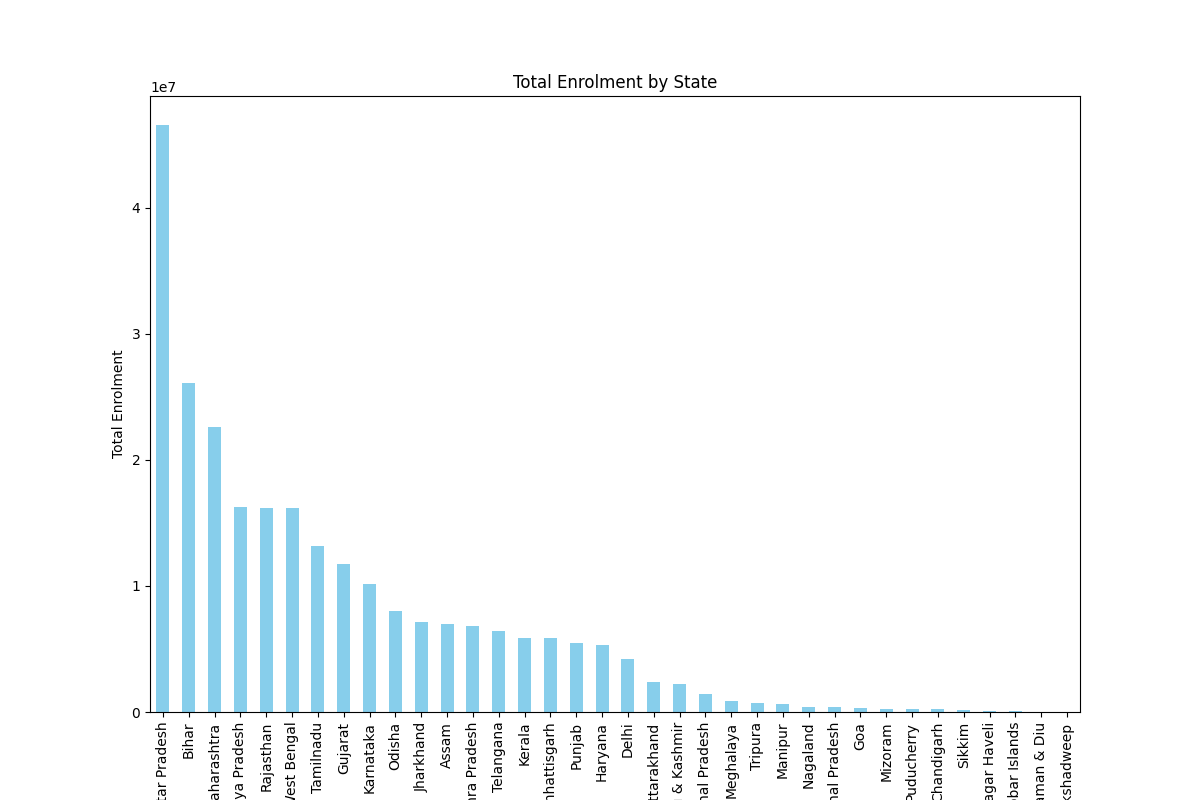

The page's visual inventory and layout, read from the dashboard file:
{"tool":"tableau","page":{"name":"Dashboard 1","canvas":[1000,1000],"units":"permille","ordinal":0},"visuals":[{"type":"worksheet","title":"Sheet 2","mark":"Bar","rows":["count"],"cols":["date","date"],"box":[1.8,480.7,991,499.4]}]}

Visuals, with their boxes on the dashboard's canvas, which has no fixed pixel size, in thousandths of its width and height (x1, y1, x2, y2). These are canvas units, not pixel positions in the 1200x800 screenshot, which may show the page scaled, cropped or inside an application window:
"Sheet 2" worksheet (Bar marks): 2 481 993 980
